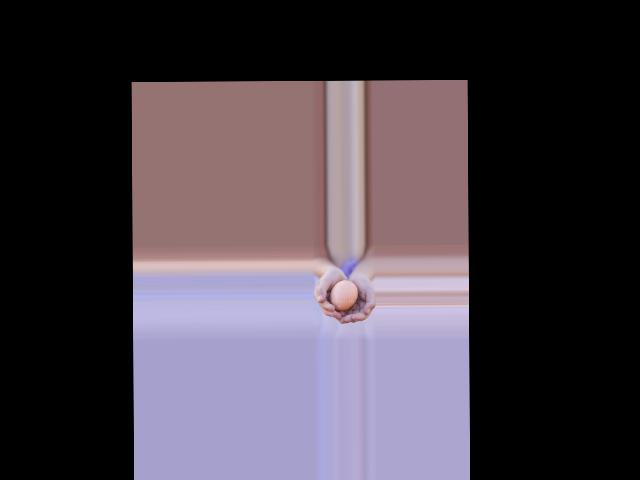egg: (330, 279, 358, 310)
